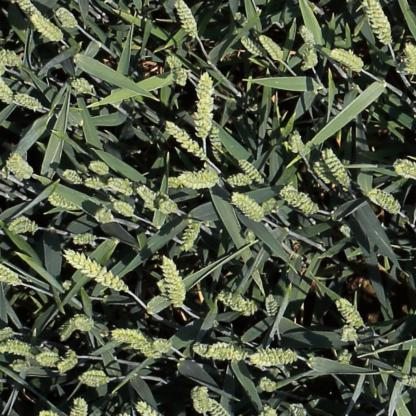whd: (63, 248, 128, 292), (164, 120, 209, 160), (362, 0, 393, 47), (195, 70, 215, 139), (276, 184, 322, 214), (217, 286, 259, 315), (324, 146, 352, 189), (332, 294, 366, 329), (178, 168, 223, 192), (247, 347, 301, 367), (327, 47, 365, 75), (162, 257, 181, 308), (191, 341, 241, 360), (176, 0, 199, 39), (30, 14, 62, 42), (232, 193, 264, 221), (8, 151, 38, 180), (154, 278, 186, 305), (258, 32, 285, 63), (369, 189, 401, 214), (109, 327, 150, 346), (189, 384, 213, 416), (239, 157, 266, 185), (68, 76, 99, 100), (75, 368, 110, 388), (391, 156, 416, 184), (0, 338, 35, 358), (130, 338, 165, 358), (313, 160, 338, 187), (182, 215, 200, 251), (89, 202, 116, 225), (13, 93, 44, 113), (152, 192, 180, 213), (210, 124, 225, 163), (36, 350, 65, 370), (16, 0, 42, 22), (55, 351, 78, 375), (205, 397, 234, 416), (136, 185, 158, 210), (48, 193, 80, 210), (0, 73, 16, 106), (241, 36, 266, 57), (299, 22, 319, 48), (55, 6, 78, 28), (58, 319, 78, 344), (227, 172, 254, 190), (6, 214, 33, 232), (68, 394, 90, 416), (0, 263, 21, 286), (107, 176, 133, 194), (136, 400, 165, 416), (0, 48, 23, 68), (403, 39, 416, 74), (291, 128, 307, 156), (9, 359, 33, 377), (110, 198, 134, 216), (300, 47, 318, 70), (71, 232, 98, 246), (342, 322, 358, 345), (84, 176, 107, 191), (152, 338, 173, 354), (62, 169, 83, 184), (266, 292, 277, 320), (0, 326, 19, 342), (72, 315, 93, 329), (166, 52, 182, 70), (173, 67, 188, 85), (259, 376, 278, 390), (89, 162, 110, 174), (259, 199, 276, 213), (337, 349, 352, 364), (338, 221, 351, 238), (288, 404, 306, 416), (232, 13, 249, 25), (245, 228, 256, 246), (166, 176, 179, 189)
